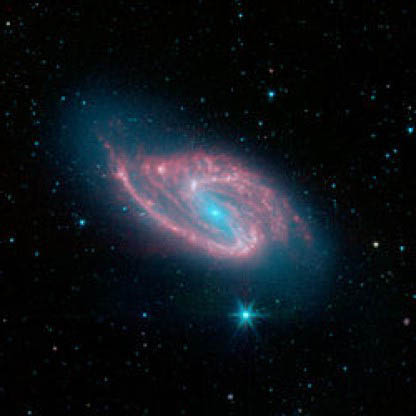Messier 66: (50, 86, 349, 349)
